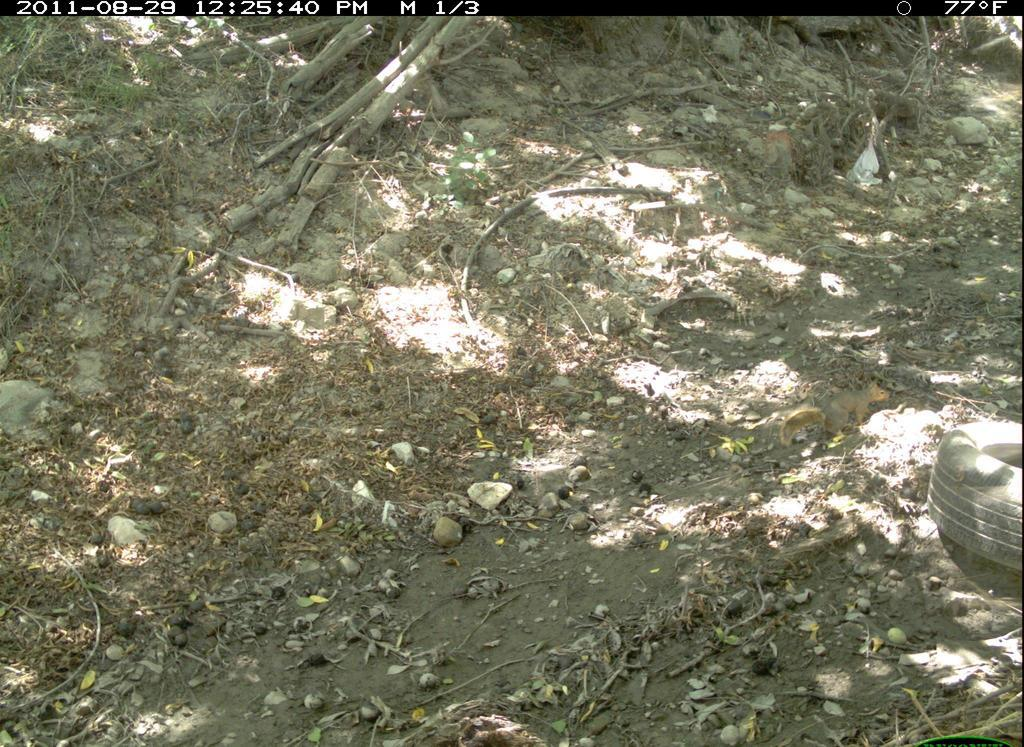squirrel: (772, 378, 897, 448)
